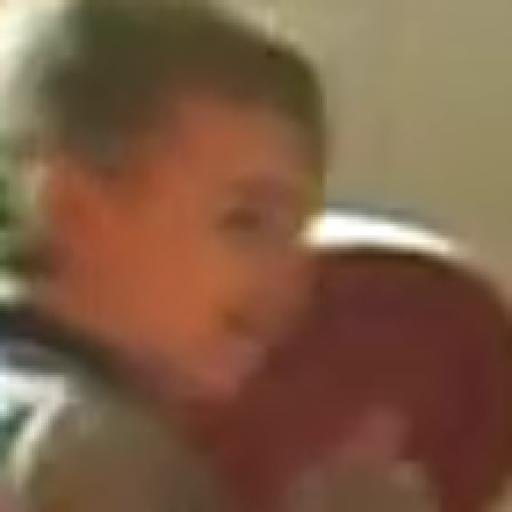Autism: (21, 21, 403, 447)
